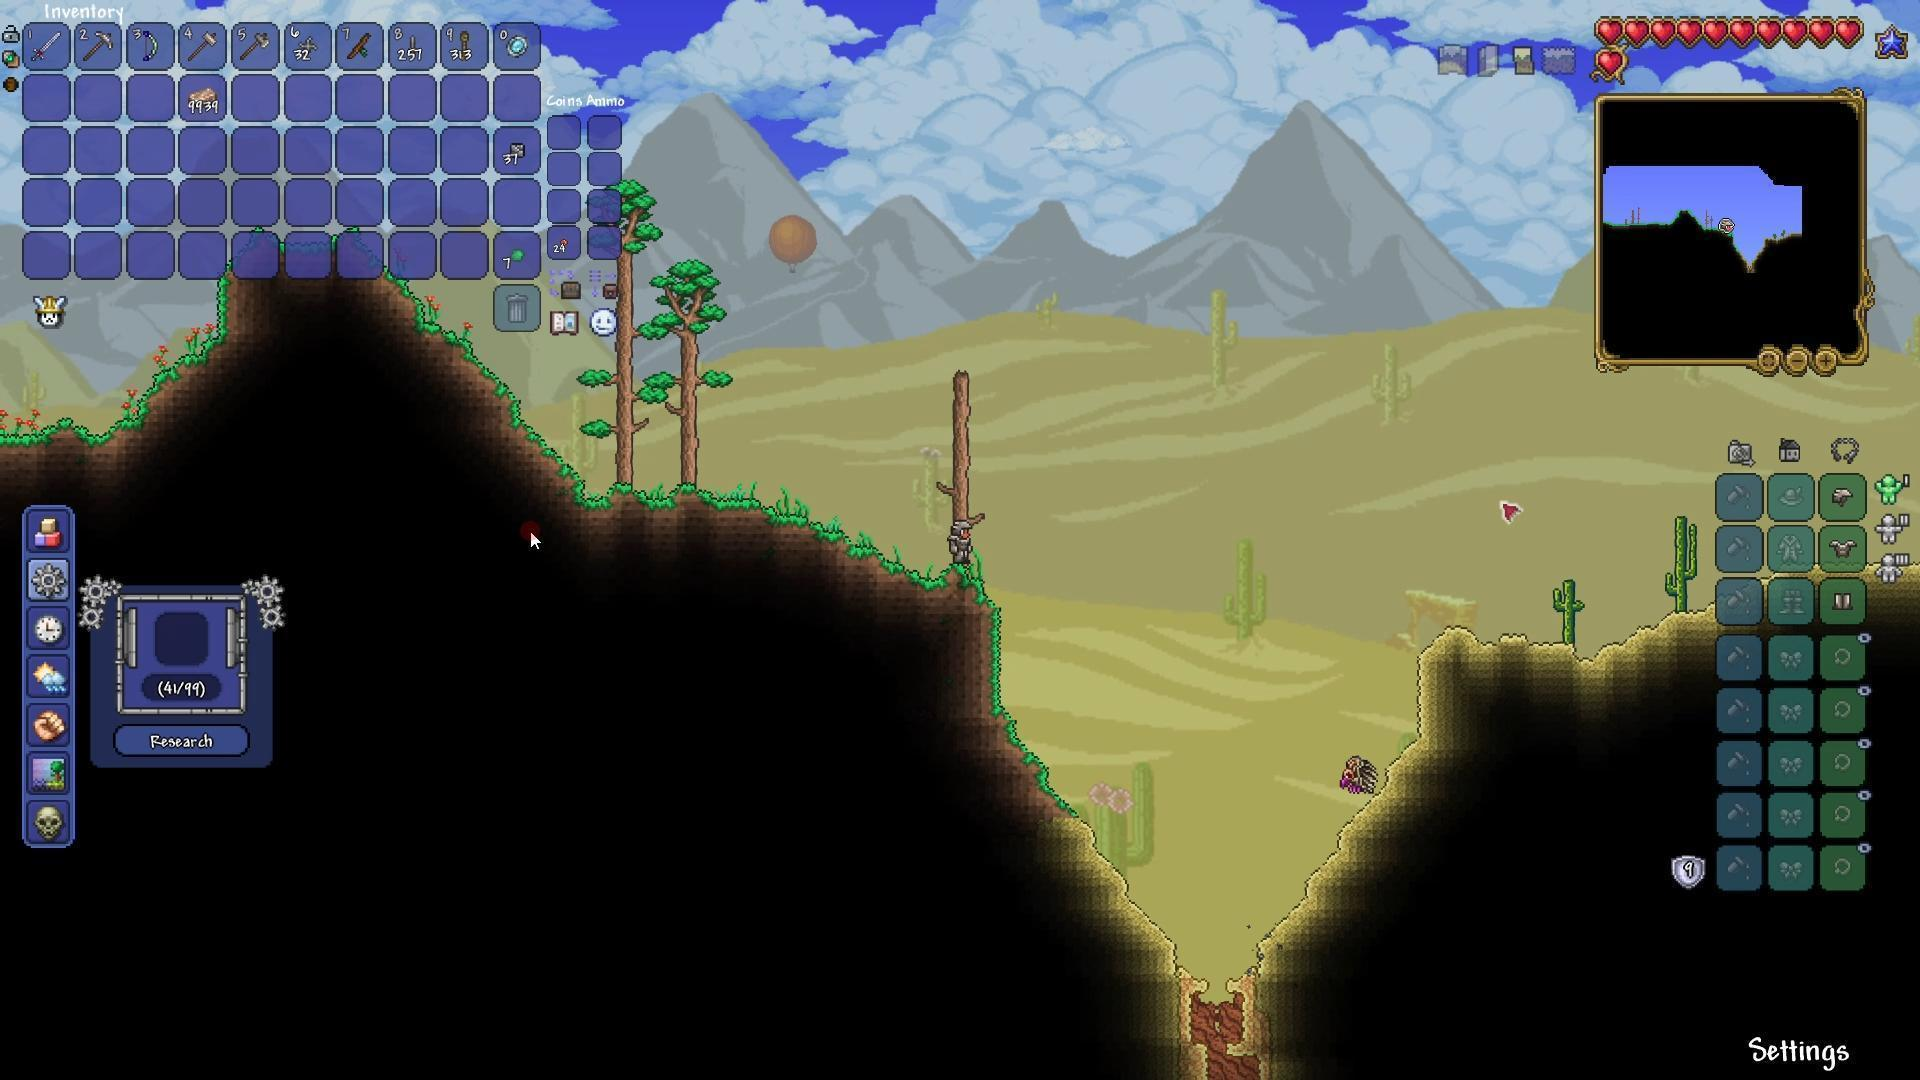axe: (239, 25, 273, 67)
bar: (183, 82, 222, 120)
bow: (132, 26, 165, 63)
breastplate: (1829, 539, 1855, 559)
gel: (504, 233, 537, 272)
helmet: (1830, 487, 1855, 508)
knife: (393, 25, 431, 63)
legs: (1830, 589, 1855, 613)
mirror: (504, 25, 531, 67)
pickaxe: (82, 20, 115, 62)
rope: (443, 22, 485, 70)
shuriken: (294, 21, 322, 62)
sword: (30, 20, 65, 65)
tree: (587, 166, 658, 509), (653, 244, 740, 504), (928, 343, 1014, 583)
